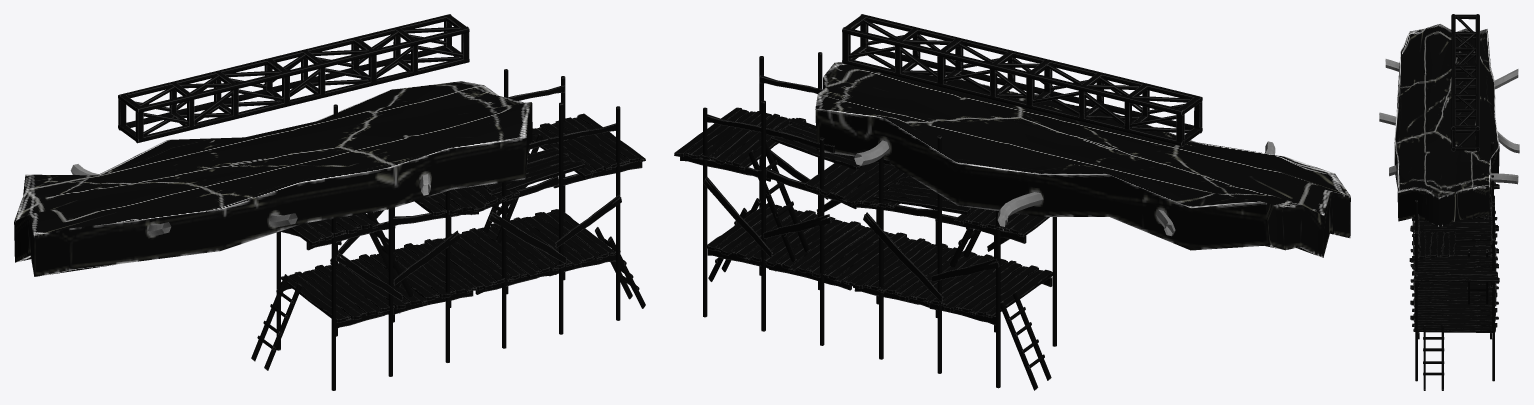
The picture shows the model from 3 angles, left to right: view 1: azimuth 30°, elevation 25°; view 2: azimuth 150°, elevation 25°; view 3: azimuth 270°, elevation 25°; orthographic projection. The views are drawn at different scales.
Parts seen in each view (by area): view 1: platform_cassee_002, MediumScaffolding, MediumScaffolding__1_, echaffaudageDebut__5_, echaffaudage__7_, echaffaudage__9_, echaffaudageDebut__6_; view 2: platform_cassee_002, MediumScaffolding, MediumScaffolding__1_, echaffaudageDebut__5_, echaffaudage__7_, echaffaudage__9_, echaffaudageDebut__6_; view 3: platform_cassee_002, MediumScaffolding, MediumScaffolding__1_, echaffaudageDebut__5_, echaffaudage__9_, echaffaudage__7_, echaffaudageDebut__6_.
Part boxes in pixels (x1,y1,x2,y2): platform_cassee_002: (14,81,532,276); MediumScaffolding: (420,69,645,348); MediumScaffolding__1_: (251,104,478,390); echaffaudageDebut__5_: (358,14,469,85); echaffaudage__7_: (263,36,376,107); echaffaudage__9_: (176,58,290,127); echaffaudageDebut__6_: (118,76,233,143); platform_cassee_002: (815,62,1350,257); MediumScaffolding: (674,52,910,345); MediumScaffolding__1_: (845,135,1056,390); echaffaudageDebut__5_: (842,14,956,87); echaffaudage__7_: (937,37,1053,110); echaffaudage__9_: (1026,59,1142,130); echaffaudageDebut__6_: (1084,76,1202,146); platform_cassee_002: (1379,24,1519,227); MediumScaffolding: (1409,200,1499,390); MediumScaffolding__1_: (1410,141,1499,284); echaffaudageDebut__5_: (1451,95,1479,151); echaffaudage__9_: (1451,33,1479,89); echaffaudage__7_: (1451,63,1479,119); echaffaudageDebut__6_: (1451,14,1479,64).
Bounding box in the file's own units: 4297 × 2039 × 1224.
5 materials, 5 textured.
